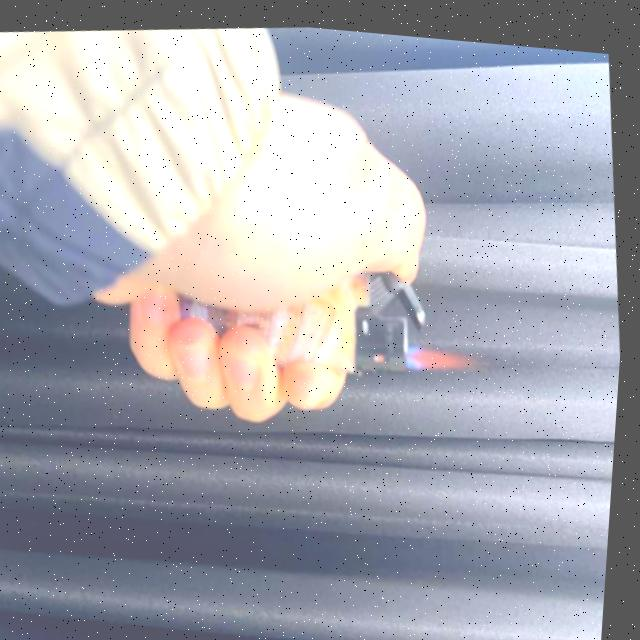Fire: (405, 330, 484, 371)
